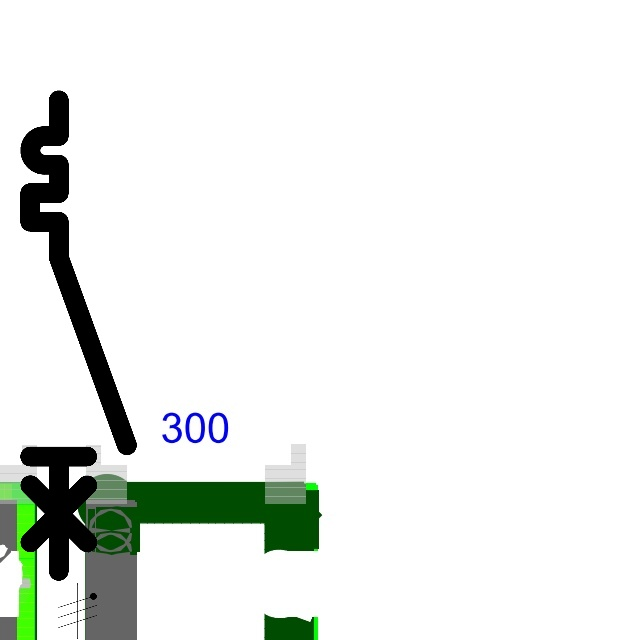interruptor_termomagnetico: (18, 88, 139, 583)
